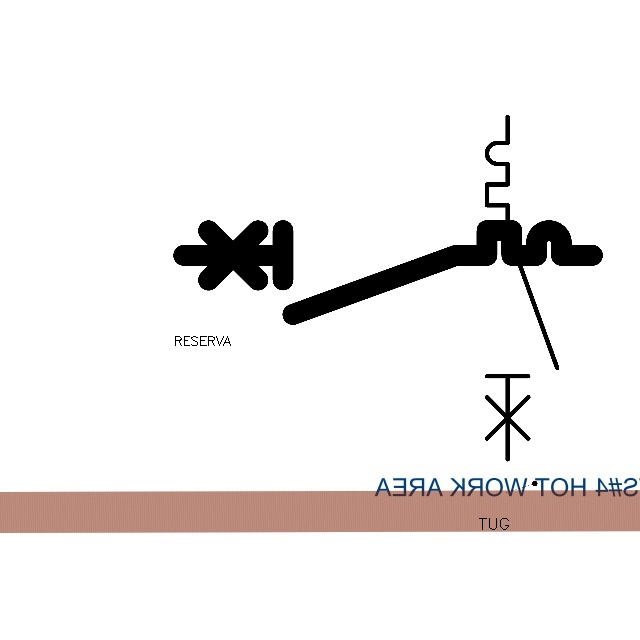interruptor_termomagnetico: (173, 220, 603, 325), (478, 108, 566, 468)
